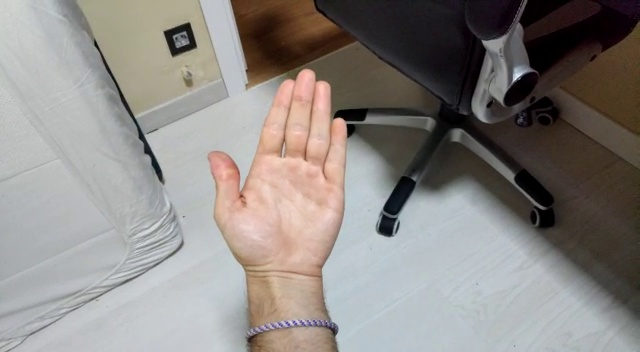Palm: (208, 66, 352, 280)
